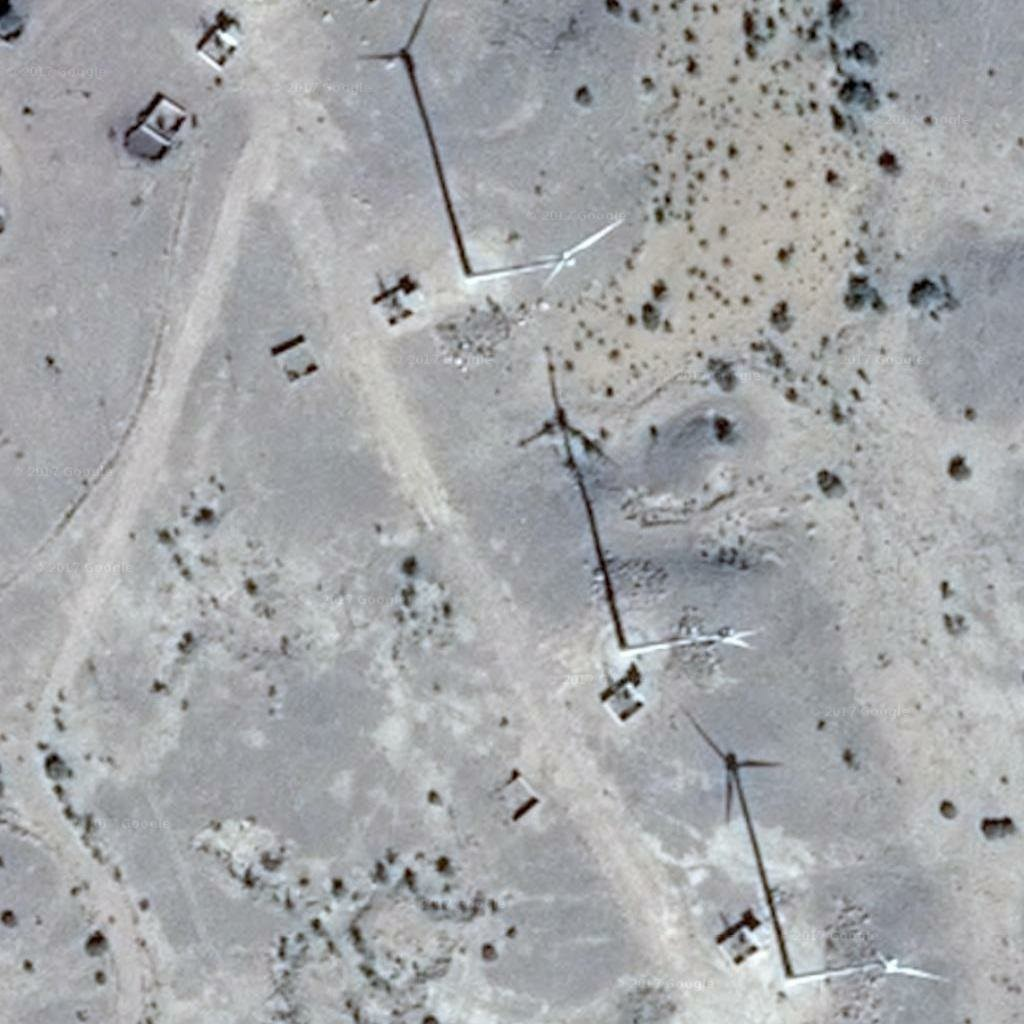Windmill: (514, 351, 626, 605)
